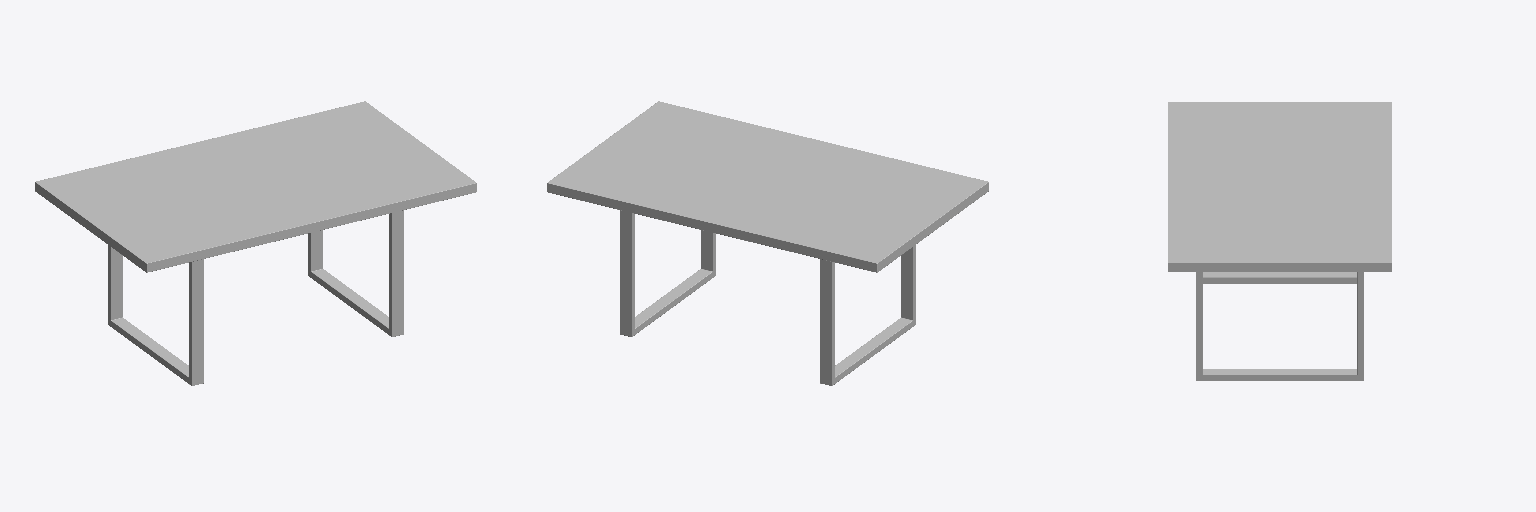
File: table.obj
3 renders of one model, left to right at view 1: azimuth 30°, elevation 25°; view 2: azimuth 150°, elevation 25°; view 3: azimuth 270°, elevation 25°, orthographic.
Parts seen in each view (by area): view 1: Table; view 2: Table; view 3: Table.
Part boxes in pixels (bbox=[...]): Table: bbox=[35, 101, 476, 385]; Table: bbox=[547, 101, 988, 385]; Table: bbox=[1168, 102, 1391, 380].
Size of the model in its own units: 1.7 by 0.7232 by 0.9952.